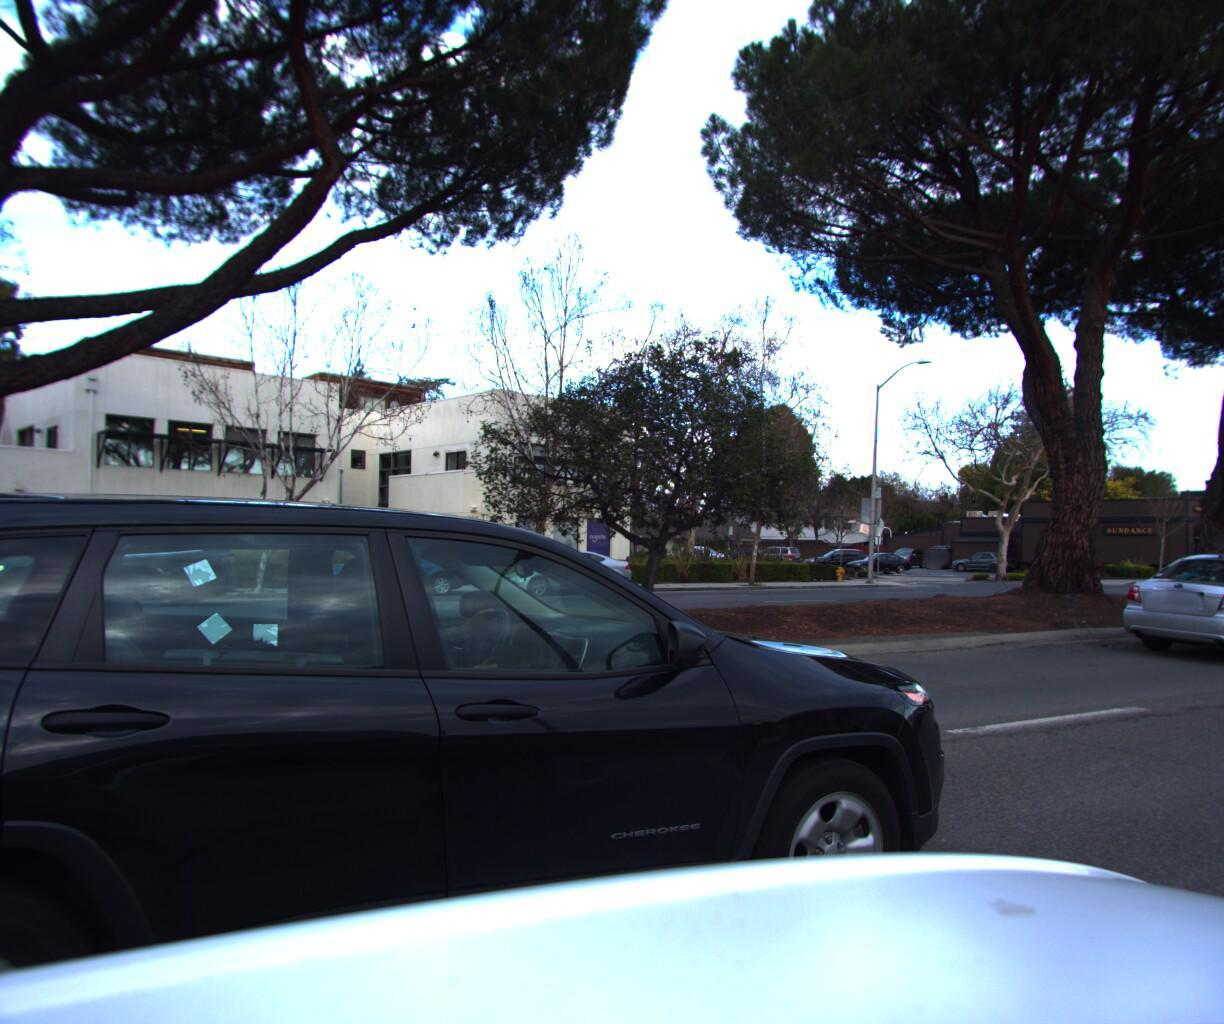car: (0, 319, 1026, 1024), (0, 526, 235, 609), (1101, 542, 1224, 666), (489, 546, 637, 593)
